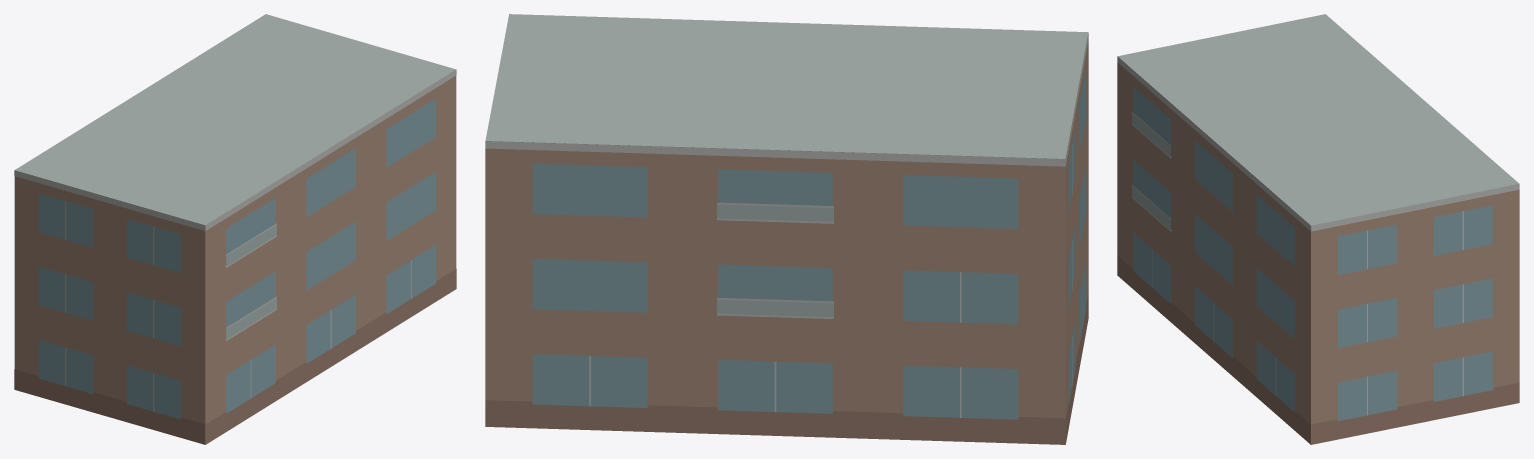
File: survey-upis-32913998.glb
3 renders of one model, left to right at view 1: azimuth 30°, elevation 25°; view 2: azimuth 150°, elevation 25°; view 3: azimuth 270°, elevation 25°, orthographic. The views are drawn at different scales.
Parts seen in each view (by area): view 1: survey-upis-32913998.tmp; view 2: survey-upis-32913998.tmp; view 3: survey-upis-32913998.tmp.
Boxes of the visible parts, box(x1,y1,x2,y2) form: survey-upis-32913998.tmp: box(14, 14, 456, 444); survey-upis-32913998.tmp: box(485, 14, 1088, 444); survey-upis-32913998.tmp: box(1117, 14, 1519, 444).
Bounding box in the file's own units: 18.97 × 9.15 × 15.23.
